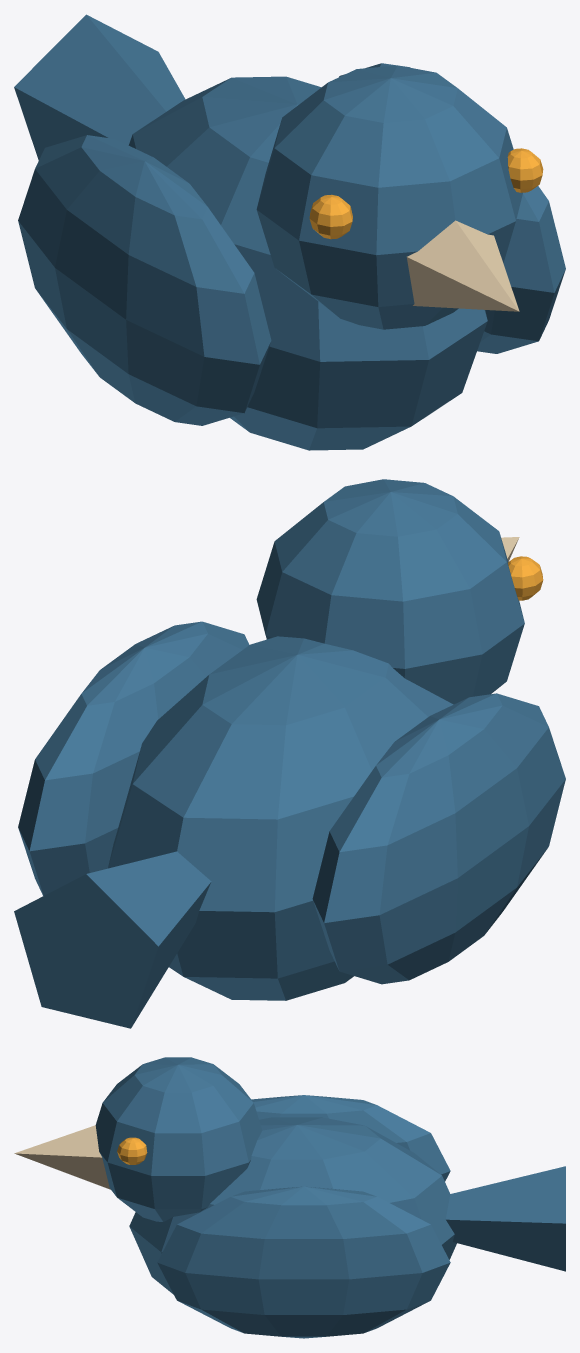
Rendered from atlas_bird.glb.
The picture shows the model from 3 angles, top to bottom: view 1: azimuth 30°, elevation 25°; view 2: azimuth 150°, elevation 25°; view 3: azimuth 270°, elevation 25°; orthographic projection. The views are drawn at different scales.
Visible parts, largest first — view 1: Bird_Wing, Bird_Head, Bird_Body, Bird_Tail, Bird_Wing.001, Bird_Beak, Bird_Eye, Bird_Eye.001; view 2: Bird_Body, Bird_Wing, Bird_Head, Bird_Wing.001, Bird_Tail, Bird_Eye; view 3: Bird_Wing.001, Bird_Head, Bird_Body, Bird_Tail, Bird_Wing, Bird_Beak, Bird_Eye.001.
Part boxes in pixels (x1,y1,x2,y2): Bird_Wing: (18,135,271,425); Bird_Head: (256,65,522,329); Bird_Body: (128,76,487,450); Bird_Tail: (14,14,185,160); Bird_Wing.001: (339,63,565,353); Bird_Beak: (406,220,519,311); Bird_Eye: (309,194,352,239); Bird_Eye.001: (507,148,543,192); Bird_Body: (108,636,453,1000); Bird_Wing: (312,693,565,984); Bird_Head: (256,479,524,704); Bird_Wing.001: (18,621,249,895); Bird_Tail: (14,851,211,1028); Bird_Eye: (508,556,543,600); Bird_Wing.001: (157,1186,450,1338); Bird_Head: (95,1057,262,1221); Bird_Body: (129,1117,456,1294); Bird_Tail: (445,1166,565,1271); Bird_Wing: (251,1095,450,1181); Bird_Beak: (14,1125,110,1189); Bird_Eye.001: (117,1137,147,1164).
Bounding box in the file's own units: 0.8483 × 0.83 × 1.58.
